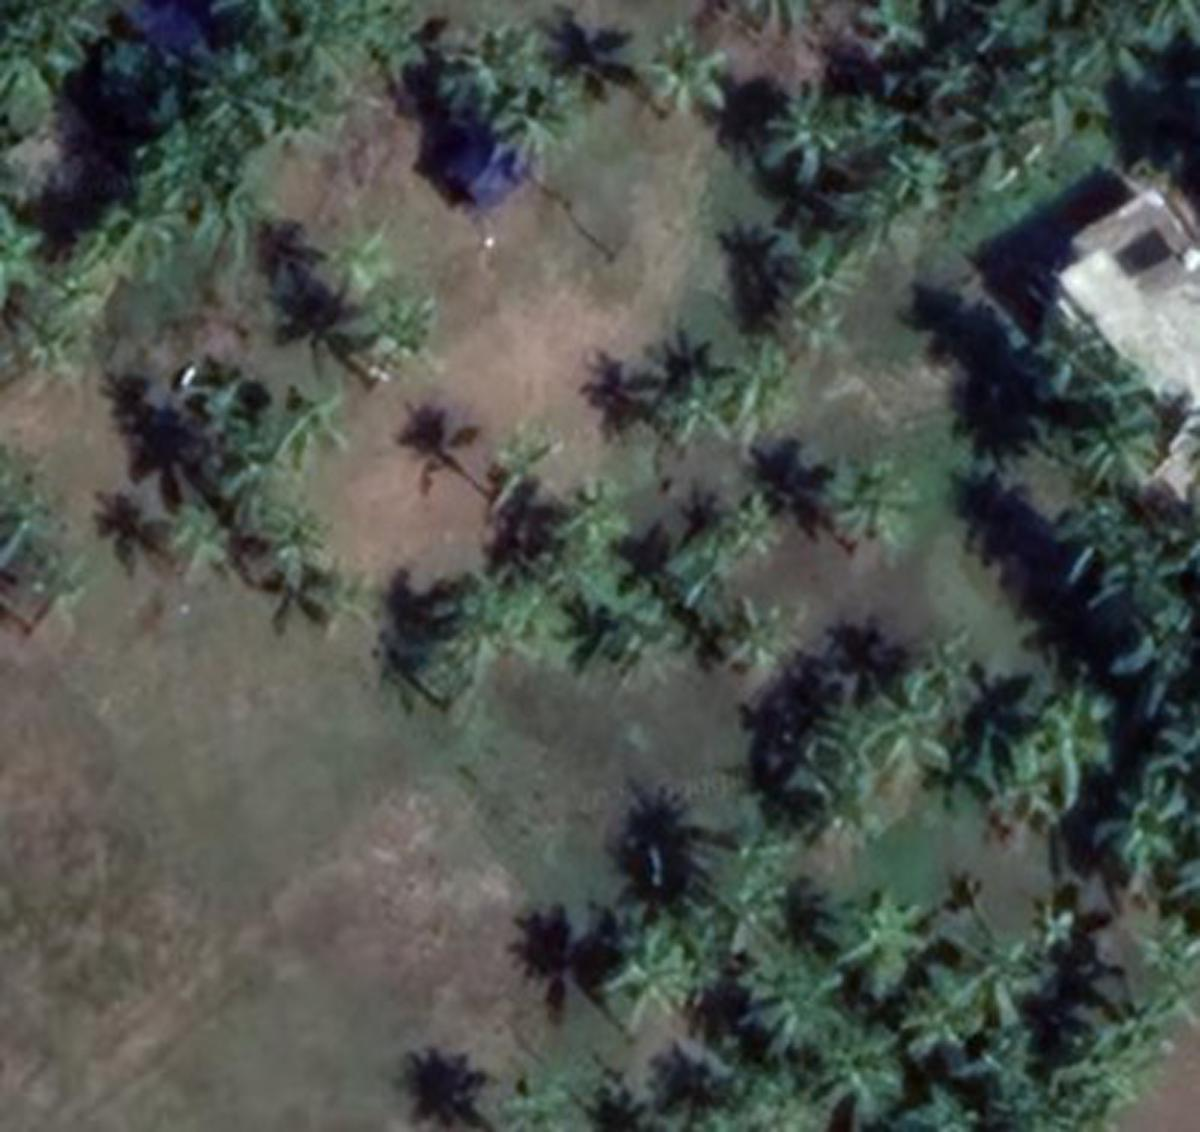coconut: (1080, 390, 1179, 492), (1021, 38, 1122, 137), (827, 452, 923, 554), (1021, 685, 1119, 783), (640, 357, 741, 452), (1089, 783, 1188, 878), (591, 923, 690, 1015), (735, 953, 839, 1039), (494, 423, 580, 518), (759, 86, 851, 172), (765, 229, 863, 309), (154, 488, 241, 577), (312, 530, 387, 631), (806, 1021, 909, 1096), (659, 32, 735, 131), (494, 71, 583, 154), (265, 390, 351, 476), (312, 220, 407, 294), (976, 738, 1054, 825), (101, 181, 190, 256), (363, 294, 446, 374), (890, 971, 973, 1051), (610, 613, 696, 688), (872, 140, 952, 220), (851, 887, 932, 965), (872, 682, 943, 768), (946, 932, 1027, 1006), (259, 503, 336, 577), (723, 592, 791, 661), (723, 497, 791, 557), (845, 91, 905, 154)
